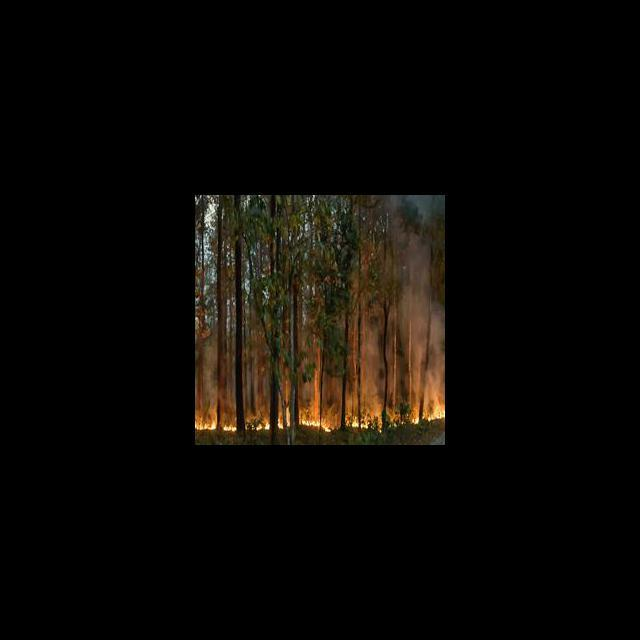Fire: (424, 409, 444, 421), (298, 418, 319, 428), (195, 420, 216, 430), (346, 417, 358, 429), (256, 421, 269, 432), (223, 424, 236, 432), (322, 424, 332, 433), (361, 420, 368, 430), (278, 421, 282, 428)
Smoke: (393, 198, 443, 394)
